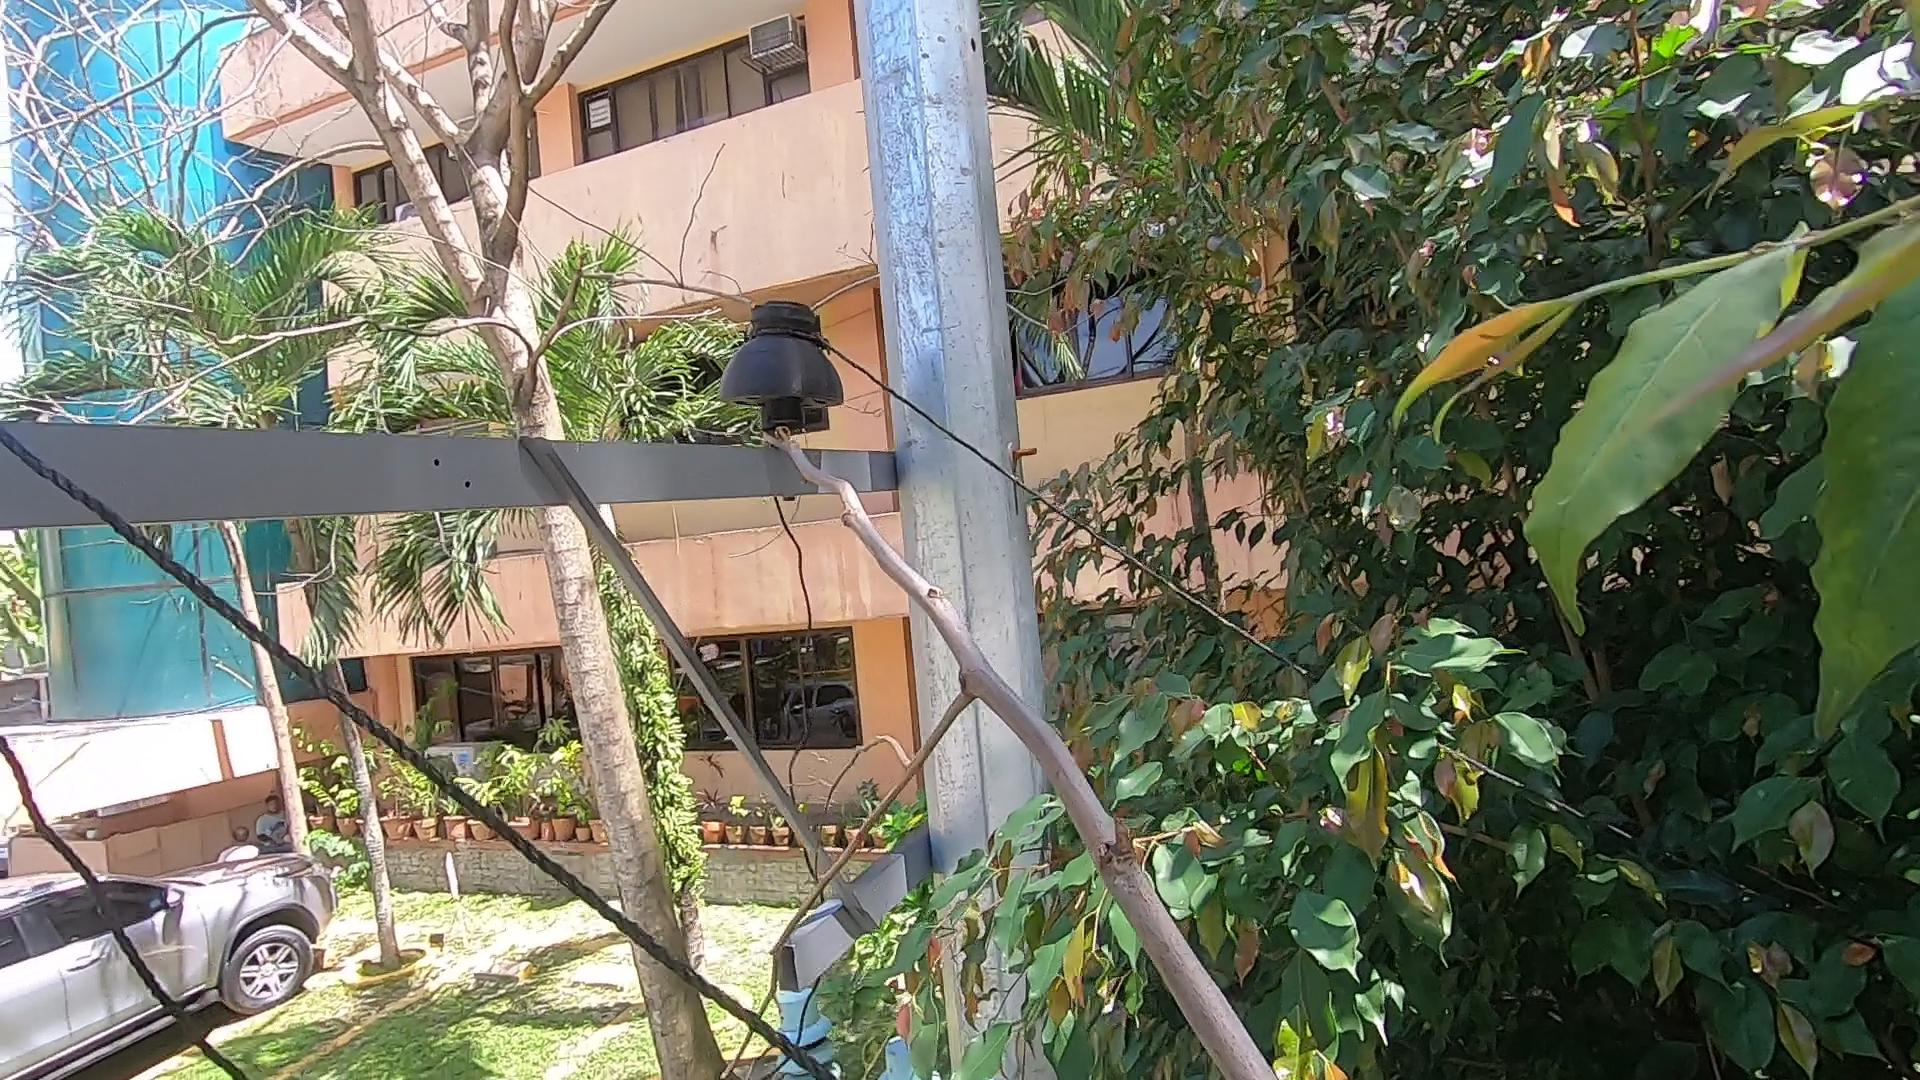branch with leaves: (870, 853, 1101, 1080)
tree branch: (676, 371, 1288, 1080)
